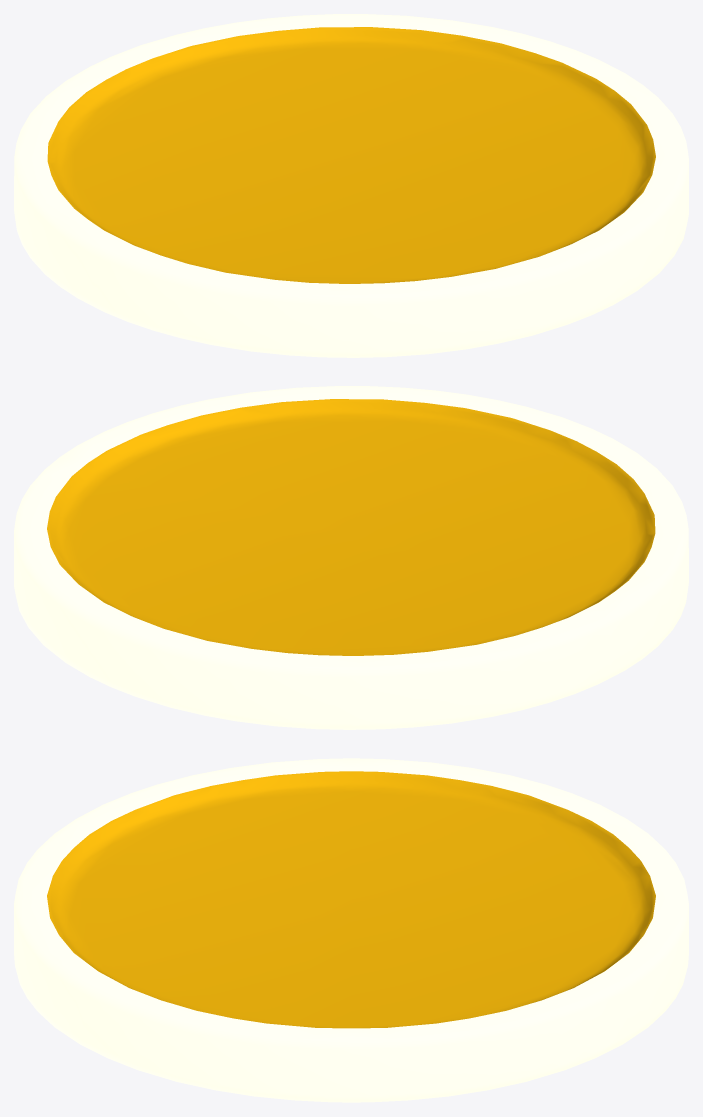
The model's file is gold_coin3.glb.
3 views of the same model, one above another, from view 1: azimuth 30°, elevation 25°; view 2: azimuth 150°, elevation 25°; view 3: azimuth 270°, elevation 25° (orthographic).
Parts seen in each view (by area): view 1: CoinDecimate_0; view 2: CoinDecimate_0; view 3: CoinDecimate_0.
Part boxes in pixels (x1,y1,x2,y2): CoinDecimate_0: [14, 14, 688, 357]; CoinDecimate_0: [14, 386, 688, 729]; CoinDecimate_0: [14, 758, 688, 1102].
Size of the model in its own units: 1.99 by 0.2001 by 1.99.
